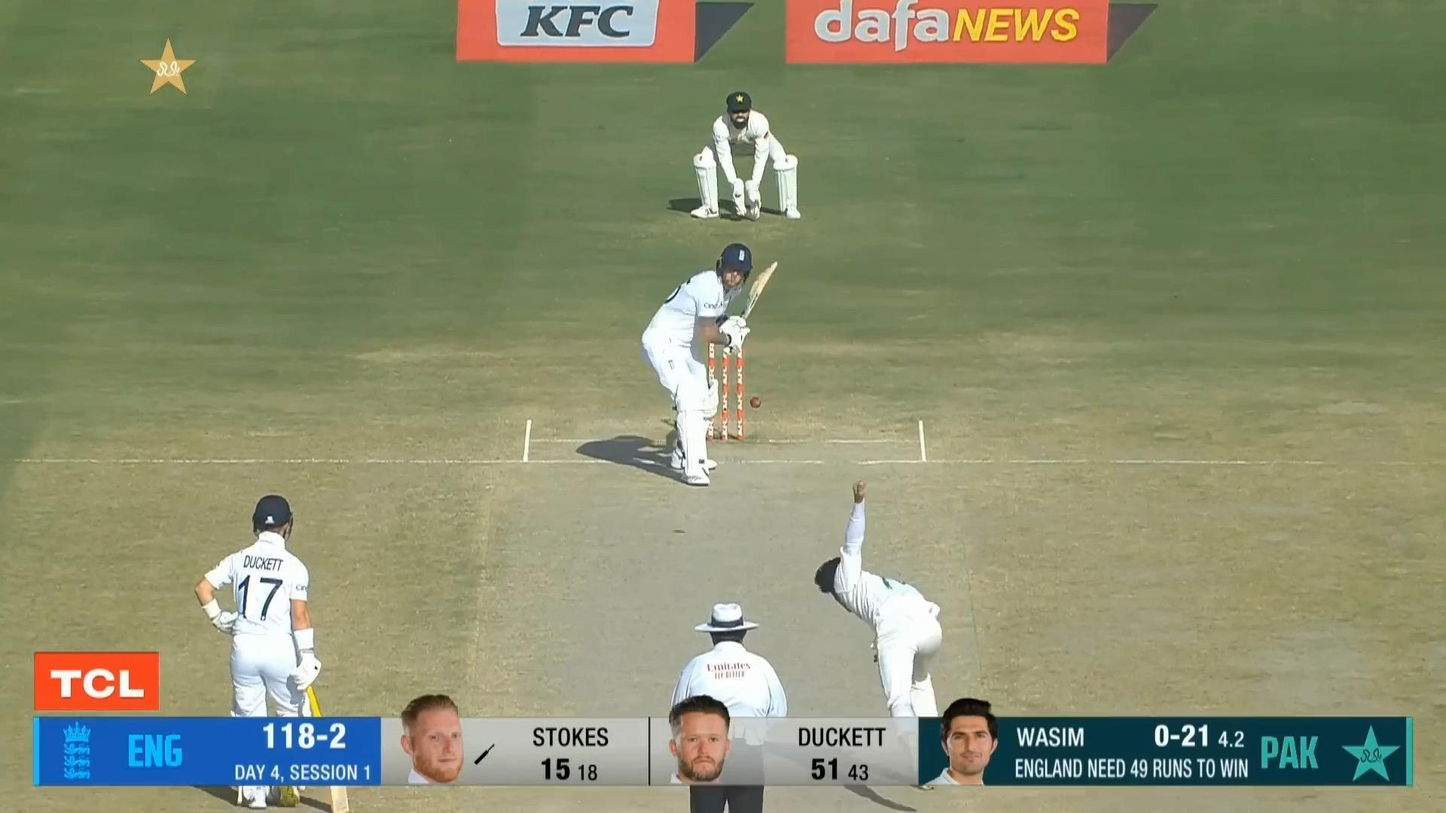BM 1: (641, 243, 779, 486)
BO: (815, 479, 943, 720)
